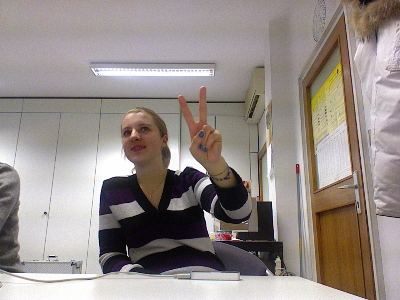剪刀: (175, 83, 222, 165)
